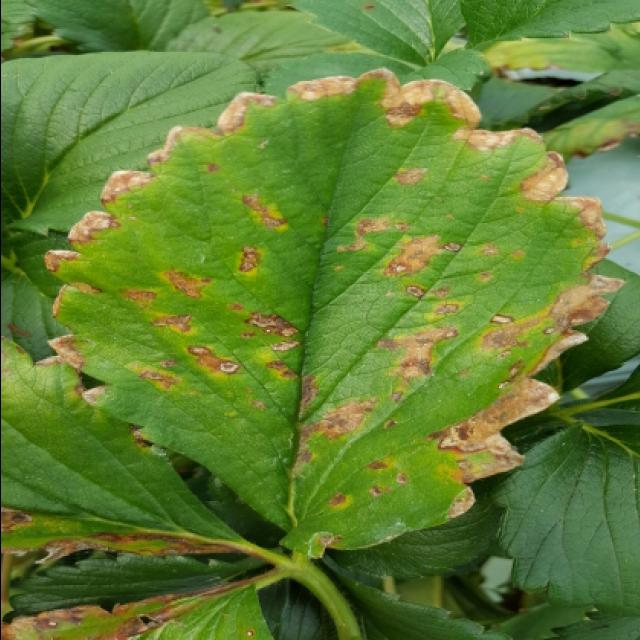Angular Leafspot: (42, 67, 626, 557), (2, 327, 277, 568), (2, 569, 276, 638)
